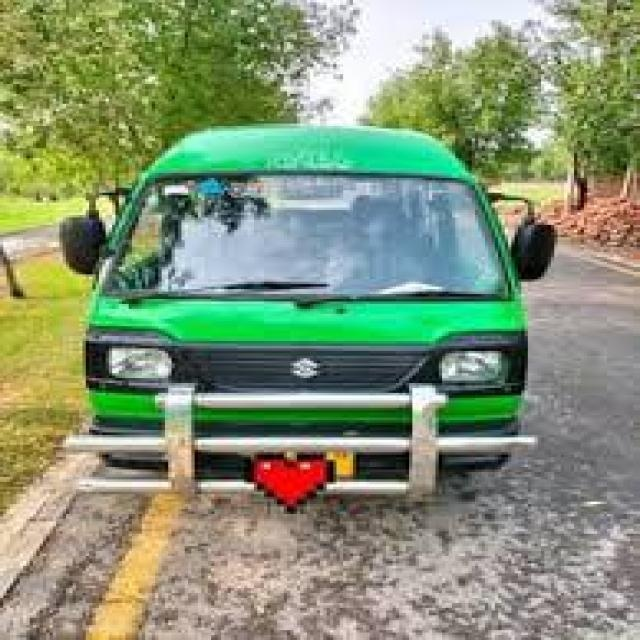Van: (59, 126, 554, 516)
